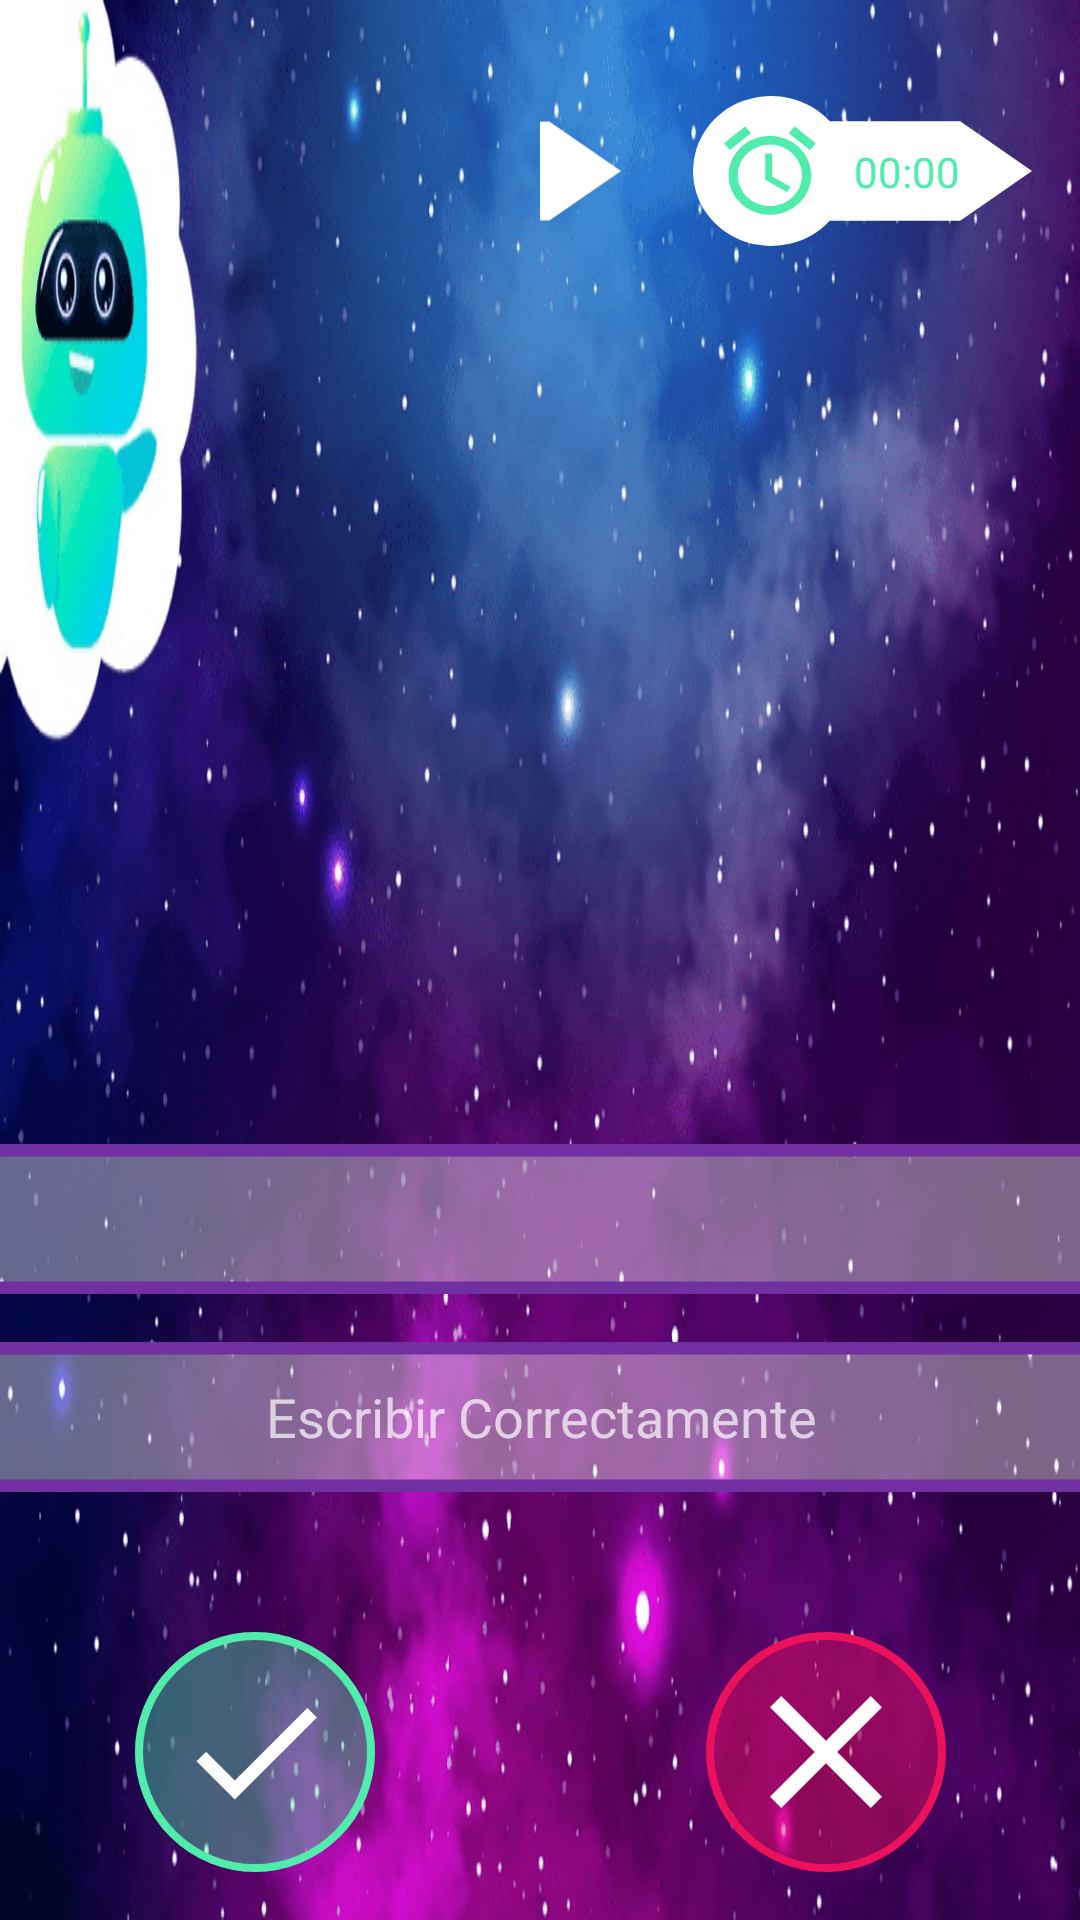

Named icons in this screenshot (1080x1920) and their centers, (x=x, y=y):
affirmative: (x=255, y=1752)
negative: (x=826, y=1752)
Tiempo de la prueba: (x=862, y=171)
